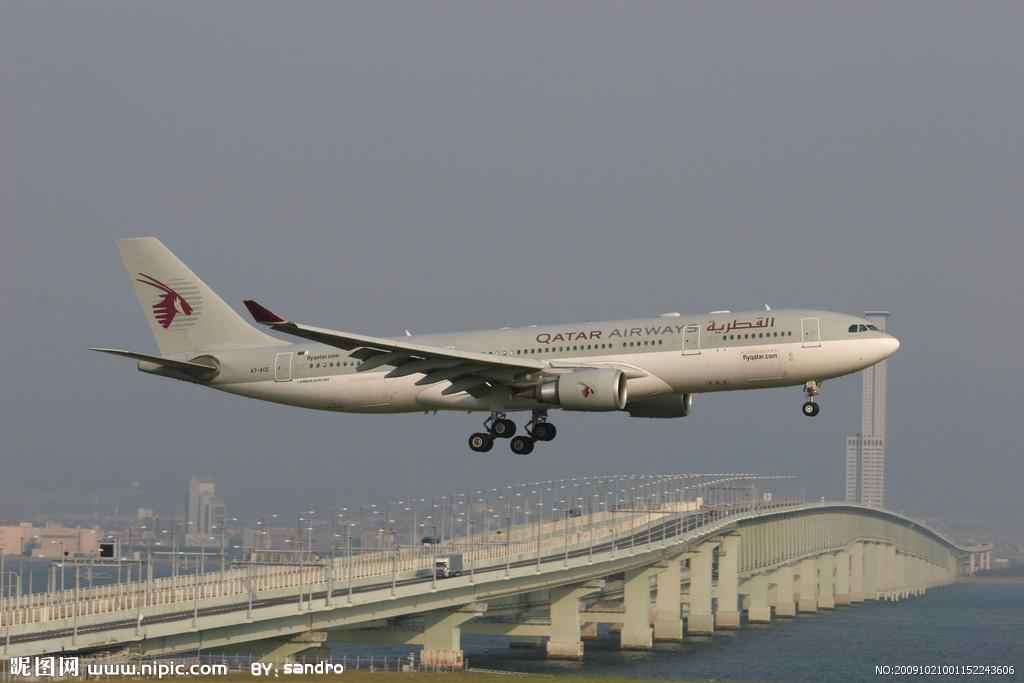airplane: (89, 229, 912, 439)
